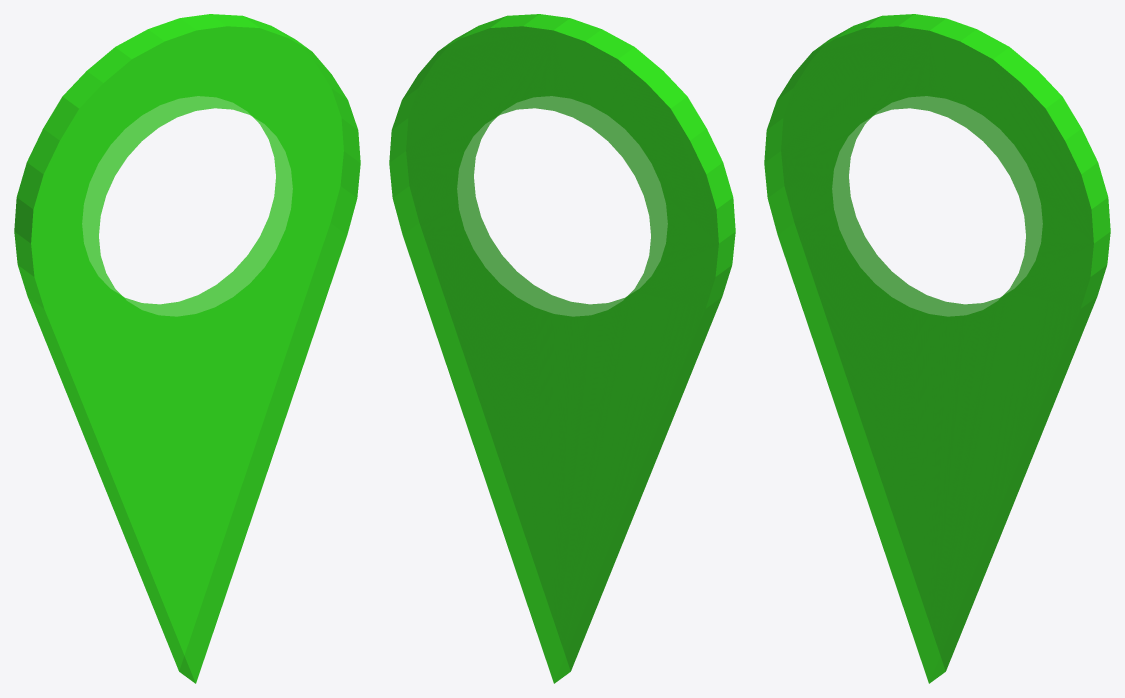
The model's file is marker.glb.
3 views of the same model, side by side, from view 1: azimuth 30°, elevation 25°; view 2: azimuth 150°, elevation 25°; view 3: azimuth 330°, elevation 25° (orthographic).
Visible parts, largest first — view 1: Plane; view 2: Plane; view 3: Plane.
Part boxes in pixels (box(x1,y1,x2,y2)): Plane: box(14, 14, 360, 683); Plane: box(389, 14, 735, 683); Plane: box(764, 14, 1110, 683).
Bounding box in the file's own units: 2.8 × 5.31 × 0.2475.
